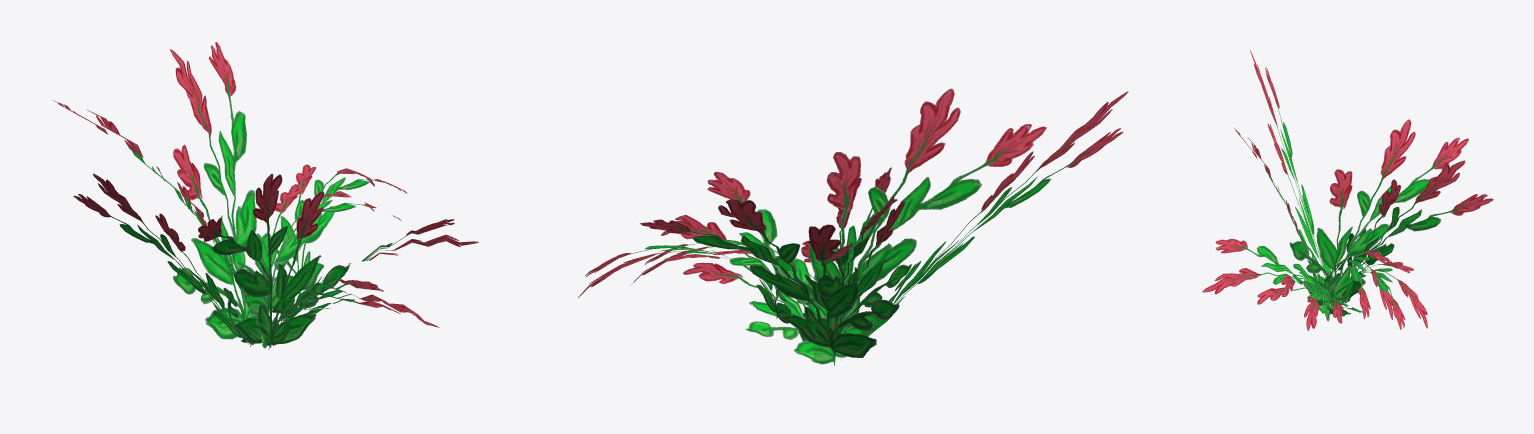
The model's file is paprotka02.FBX.
The picture shows the model from 3 angles, left to right: view 1: azimuth 30°, elevation 25°; view 2: azimuth 150°, elevation 25°; view 3: azimuth 270°, elevation 25°; orthographic projection. The views are drawn at different scales.
Parts seen in each view (by area): view 1: Plane001, Plane006, Plane003, Plane004, Plane008, Plane002, Plane005, Plane007; view 2: Plane006, Plane001, Plane005, Plane003, Plane007, Plane002, Plane008, Plane004; view 3: Plane007, Plane001, Plane002, Plane003, Plane008, Plane004, Plane005, Plane006.
Boxes of the visible parts, x1,y1,x2,y2 form: Plane001: [170, 42, 274, 339]; Plane006: [198, 173, 349, 347]; Plane003: [73, 173, 253, 344]; Plane004: [232, 184, 401, 314]; Plane008: [262, 164, 407, 293]; Plane002: [241, 279, 439, 346]; Plane005: [266, 219, 478, 349]; Plane007: [53, 100, 266, 348]; Plane006: [771, 88, 1046, 341]; Plane001: [640, 199, 899, 357]; Plane005: [653, 171, 817, 361]; Plane003: [840, 91, 1128, 360]; Plane007: [802, 197, 911, 341]; Plane002: [784, 167, 891, 365]; Plane008: [578, 245, 791, 323]; Plane004: [630, 239, 841, 325]; Plane007: [1289, 119, 1468, 307]; Plane001: [1342, 160, 1493, 301]; Plane002: [1202, 238, 1344, 316]; Plane003: [1249, 49, 1332, 303]; Plane008: [1341, 261, 1427, 329]; Plane004: [1324, 250, 1392, 319]; Plane005: [1281, 274, 1362, 330]; Plane006: [1233, 127, 1329, 321].
Bounding box in the file's own units: 206 × 139 × 169.
